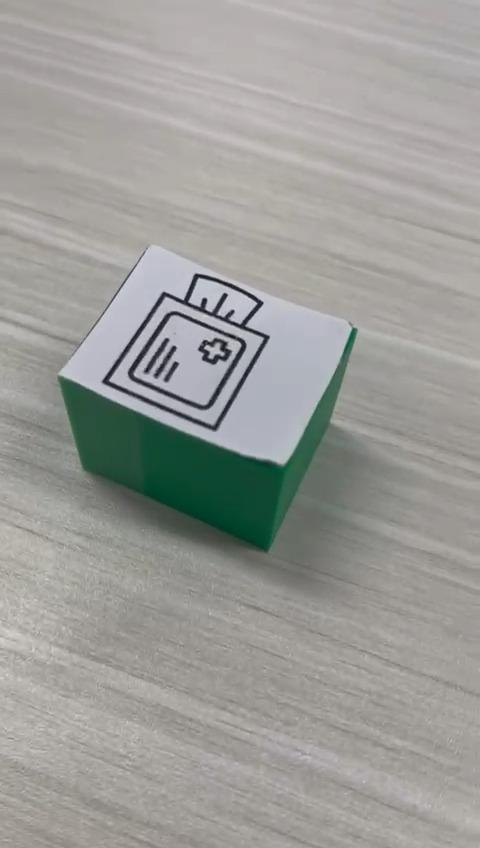Gauze: (56, 242, 358, 553)
